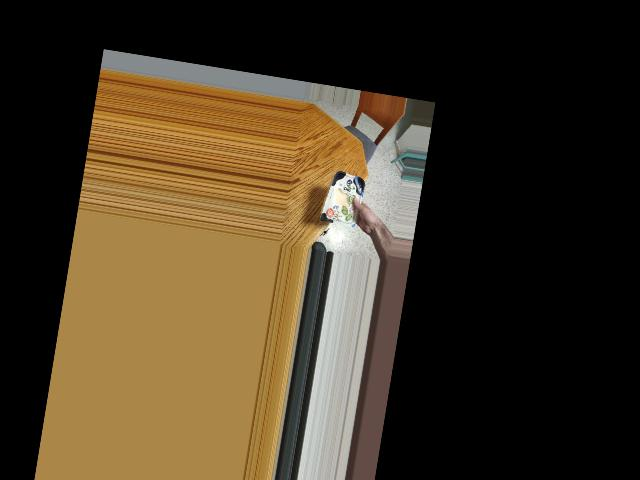cheese: (320, 169, 372, 229)
